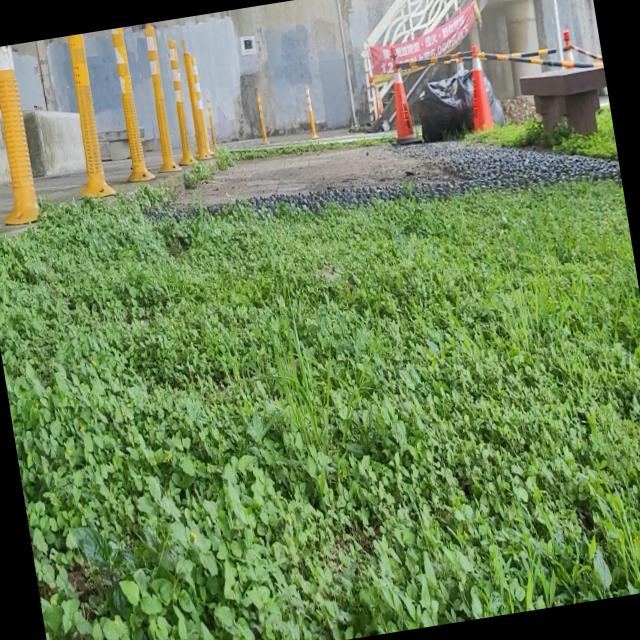grass: (0, 180, 640, 640), (464, 106, 619, 159), (183, 162, 215, 189), (417, 544, 422, 552)
sand: (176, 144, 462, 206)
stone: (203, 145, 622, 215)
